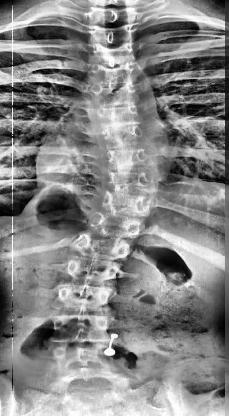Vertebrae: (48, 343, 116, 379), (47, 312, 113, 346), (50, 282, 119, 314), (60, 254, 128, 286), (70, 232, 136, 264), (84, 209, 146, 241), (99, 188, 161, 218), (101, 142, 157, 174), (100, 165, 162, 193), (90, 99, 144, 130), (94, 125, 148, 155), (83, 80, 140, 108), (87, 42, 137, 70), (86, 62, 138, 88), (86, 21, 136, 47)
